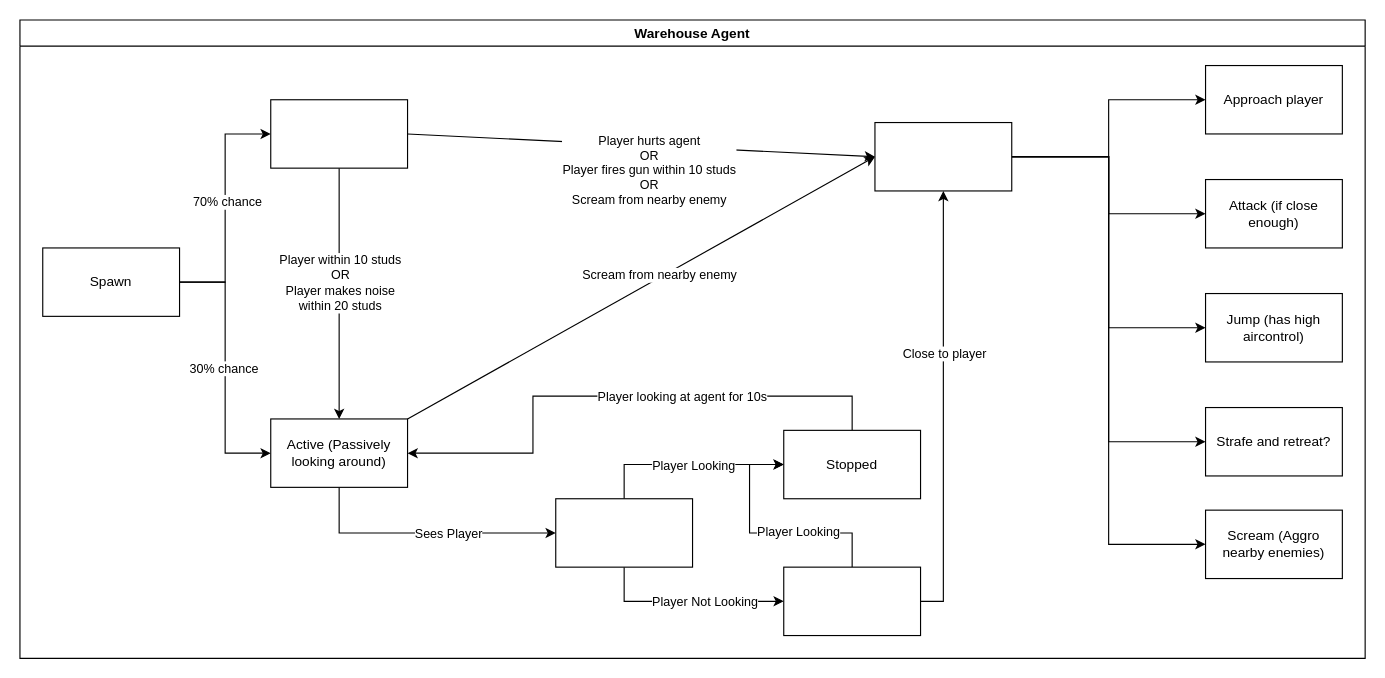
The diagram is 1385 pixels wide and 678 high, and some of its shapes have lost their labels. The shapes that lost their labels are listed below. From the top down, each one's box as (x1, y1, x2, y2) in pixels, then its label:
(270, 99, 408, 168): Passive
(874, 121, 1012, 191): Aggroed
(555, 498, 693, 567): Alerted
(783, 566, 921, 636): Approaching
